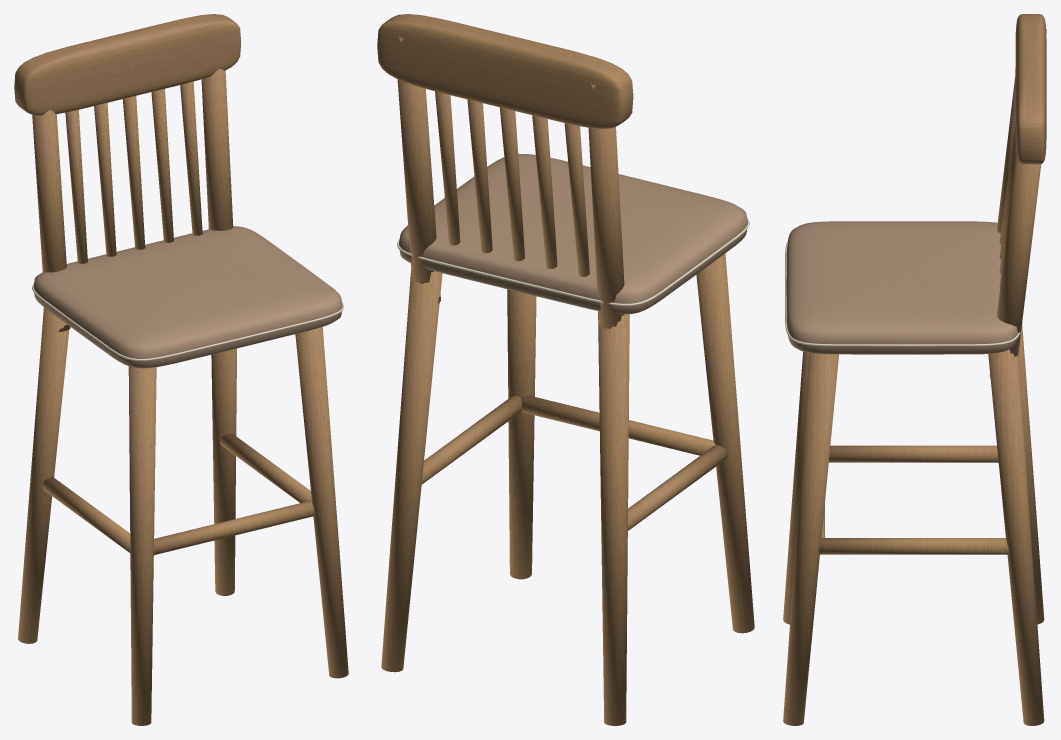
Rendered from country.stool.gltf.
3 renders of one model, left to right at view 1: azimuth 30°, elevation 25°; view 2: azimuth 150°, elevation 25°; view 3: azimuth 270°, elevation 25°, orthographic. The views are drawn at different scales.
Visible parts, largest first — view 1: country.stool.leg; view 2: country.stool.leg; view 3: country.stool.leg.
Boxes of the visible parts, x1=… form: country.stool.leg: x1=14, y1=14, x2=348, y2=725; country.stool.leg: x1=377, y1=14, x2=754, y2=725; country.stool.leg: x1=783, y1=14, x2=1046, y2=725.
Bounding box in the file's own units: 0.4215 × 1.04 × 0.4054.
3 materials, 2 textured.
